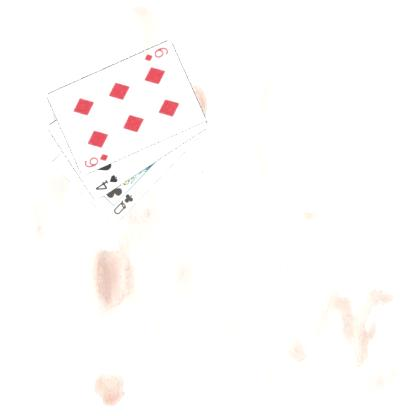4S: (92, 172, 119, 192)
6D: (141, 44, 169, 62), (82, 151, 109, 169)
QC: (110, 191, 134, 217)
